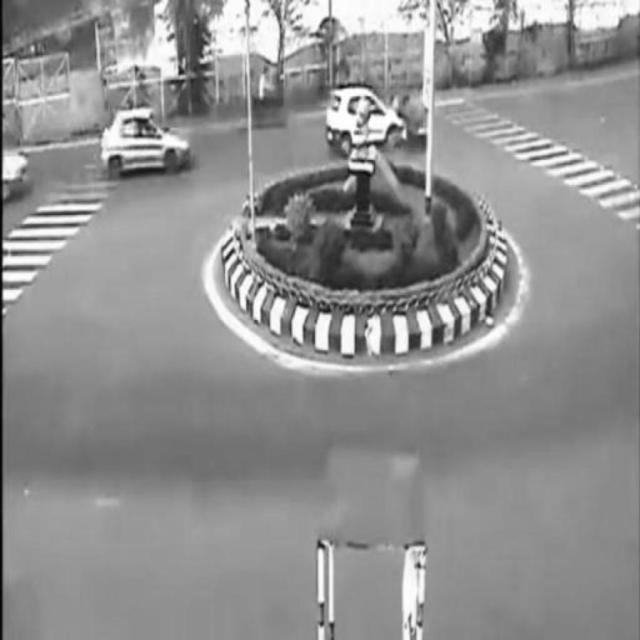accident: (332, 89, 422, 150)
vehicle: (105, 109, 193, 175)
